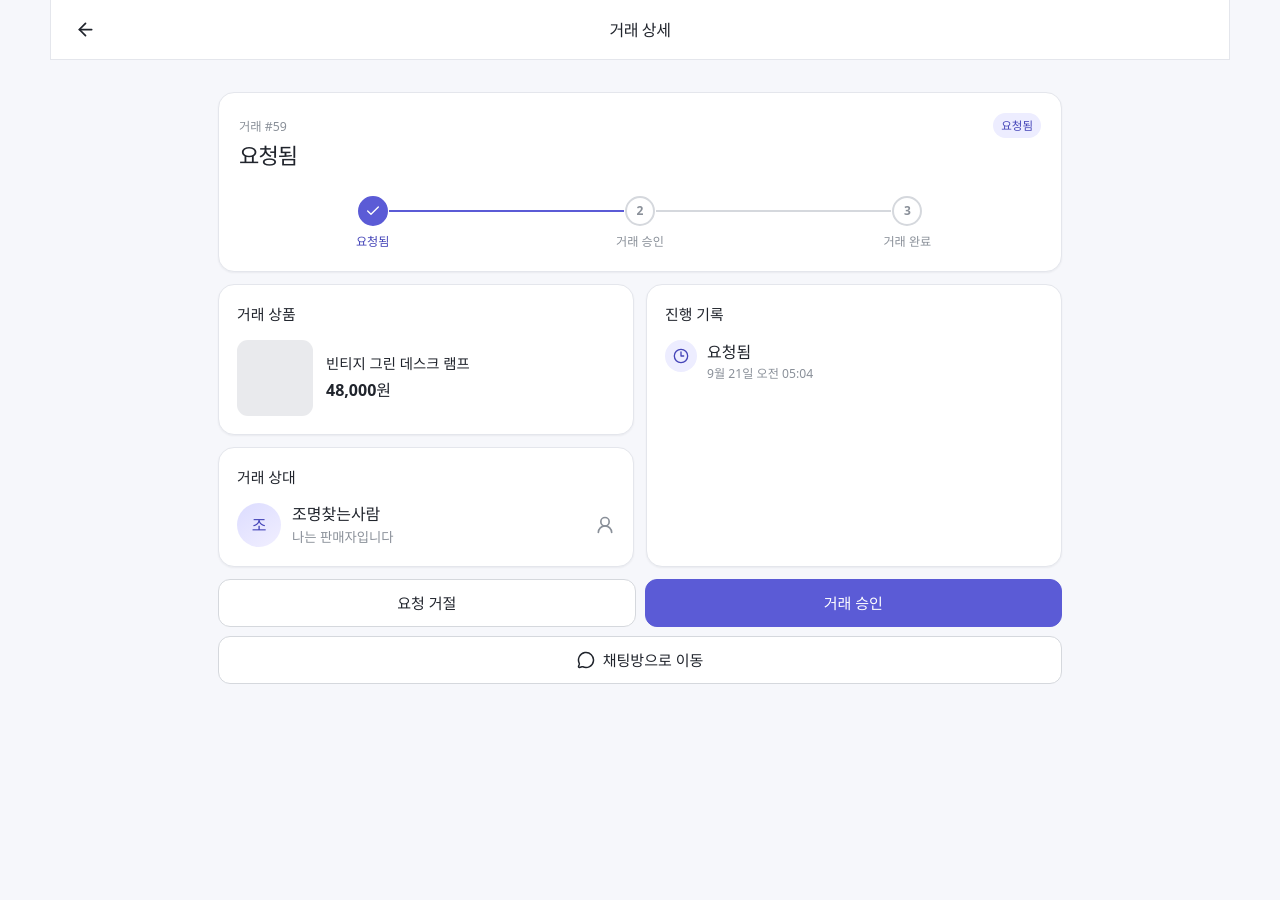
Scenario: 개발자 A 핵심 거래 흐름 › 판매자가 요청된 거래를 승인하면 상태와 액션이 갱신된다
Click the button "거래 승인".
click(853, 603)  # box [644,579,1062,627]
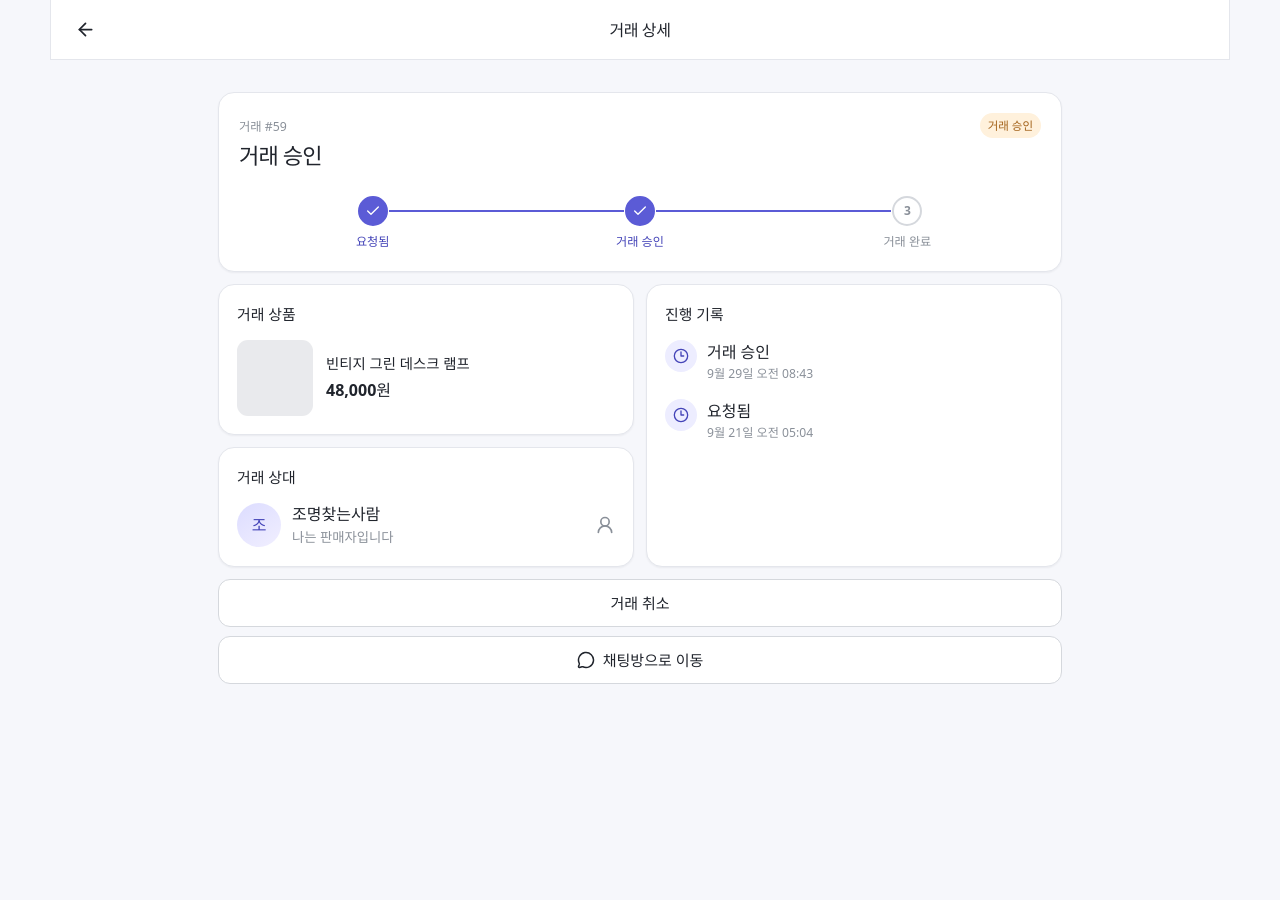
Expected: the heading "거래 승인" is shown, [239,139,322,172]
Expected: the button "거래 취소" is shown, [218,579,1062,627]
